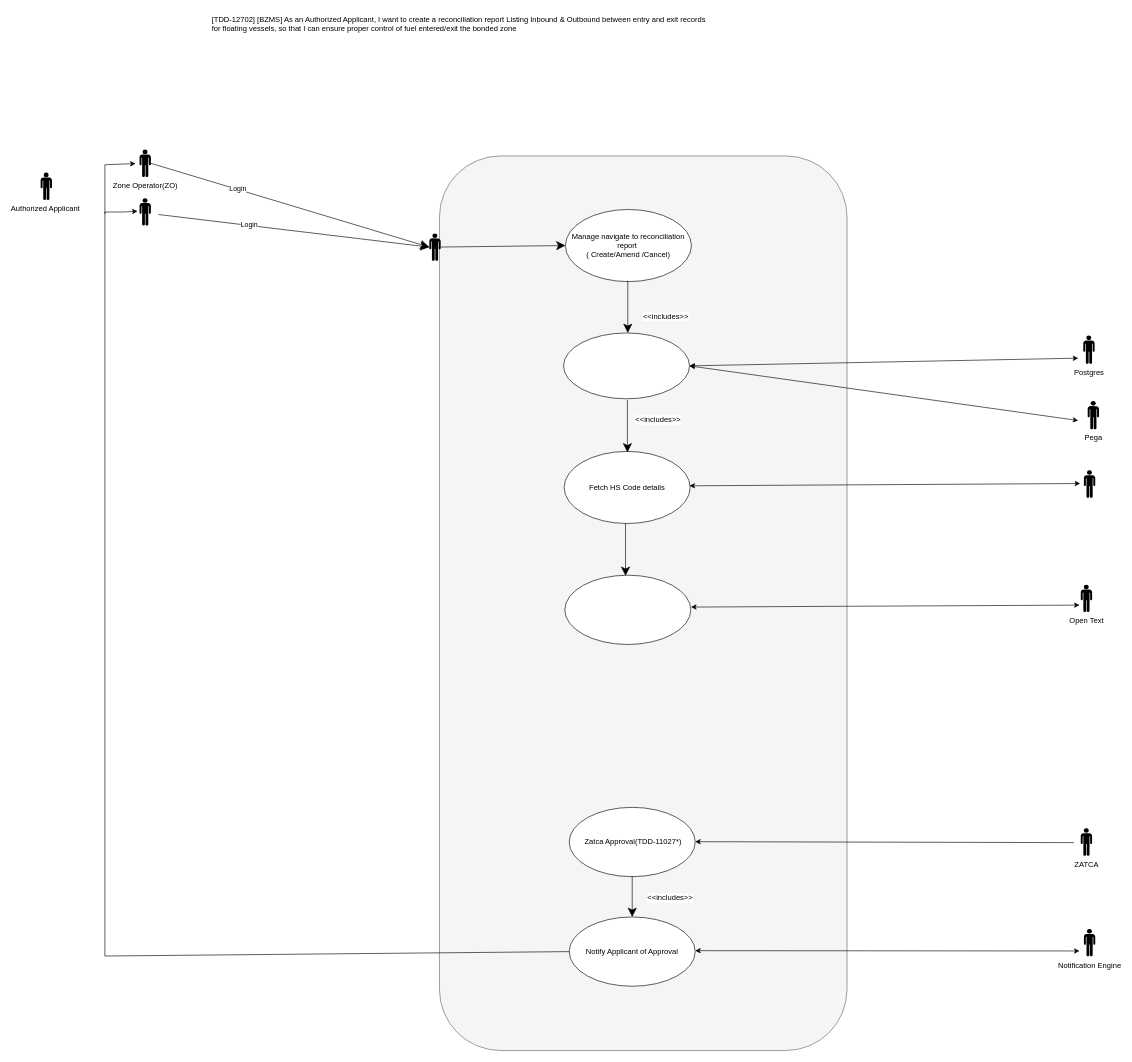
The diagram is 1132 pixels wide and 1062 high, and some of its shapes have lost their labels. The shapes that lost their labels are listed below. From the top down, each one's box as (x1, y1, x2, y2) in pixels, then its label:
(139, 198, 151, 225): Component Operator(CO)
(429, 233, 440, 261): BZMS Cutomer Portal
(563, 332, 690, 399): Retrieve Entry and Exit Ticket record Details
(1084, 470, 1095, 497): Nebras
(564, 575, 691, 644): Add Attachments
